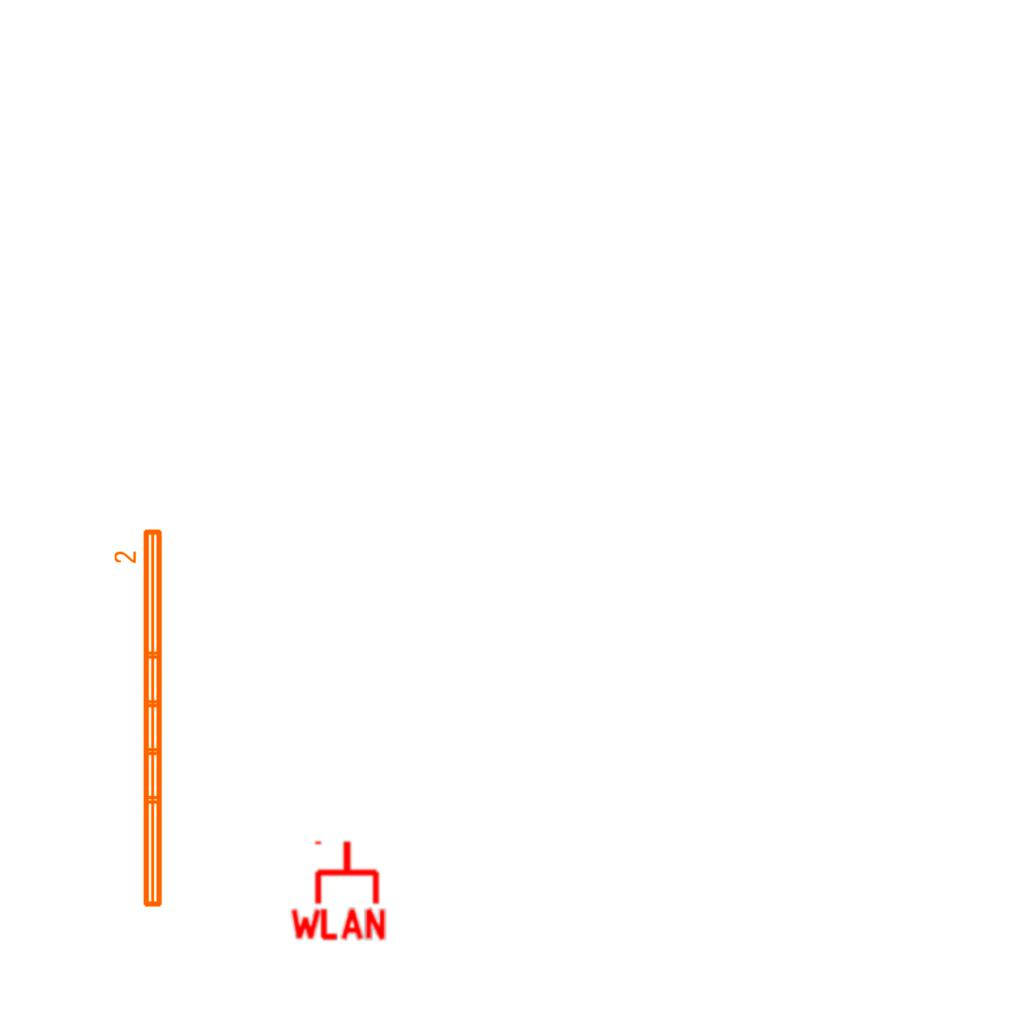Ambulanz_Pendelleuchte_LED: (112, 525, 168, 912)
WLAN: (286, 837, 390, 942)
